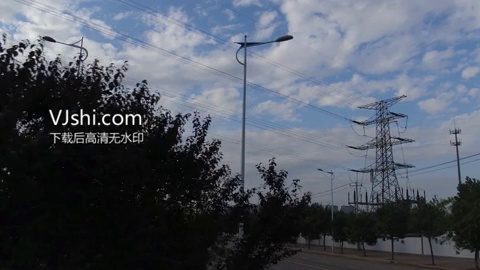tower_body: (349, 90, 417, 195)
tower_head: (355, 93, 410, 128)
